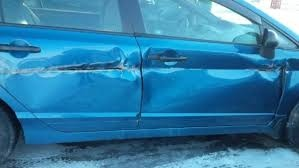Dent: (2, 48, 294, 84)
